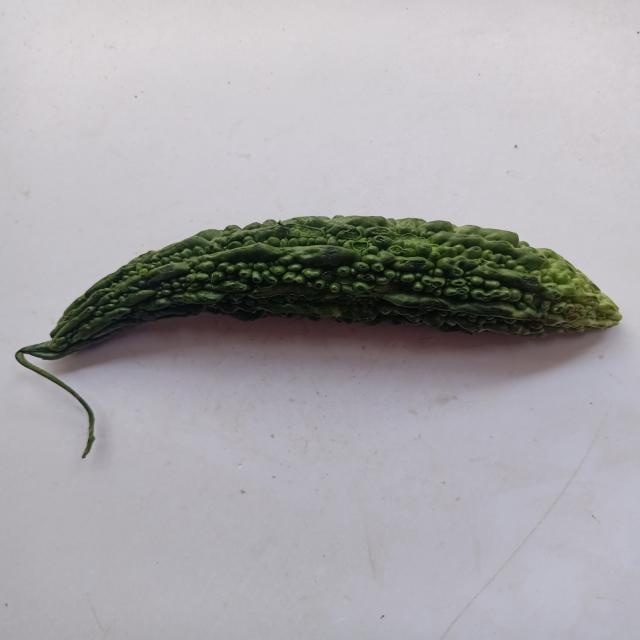Bitter Gourd: (7, 186, 640, 449)
